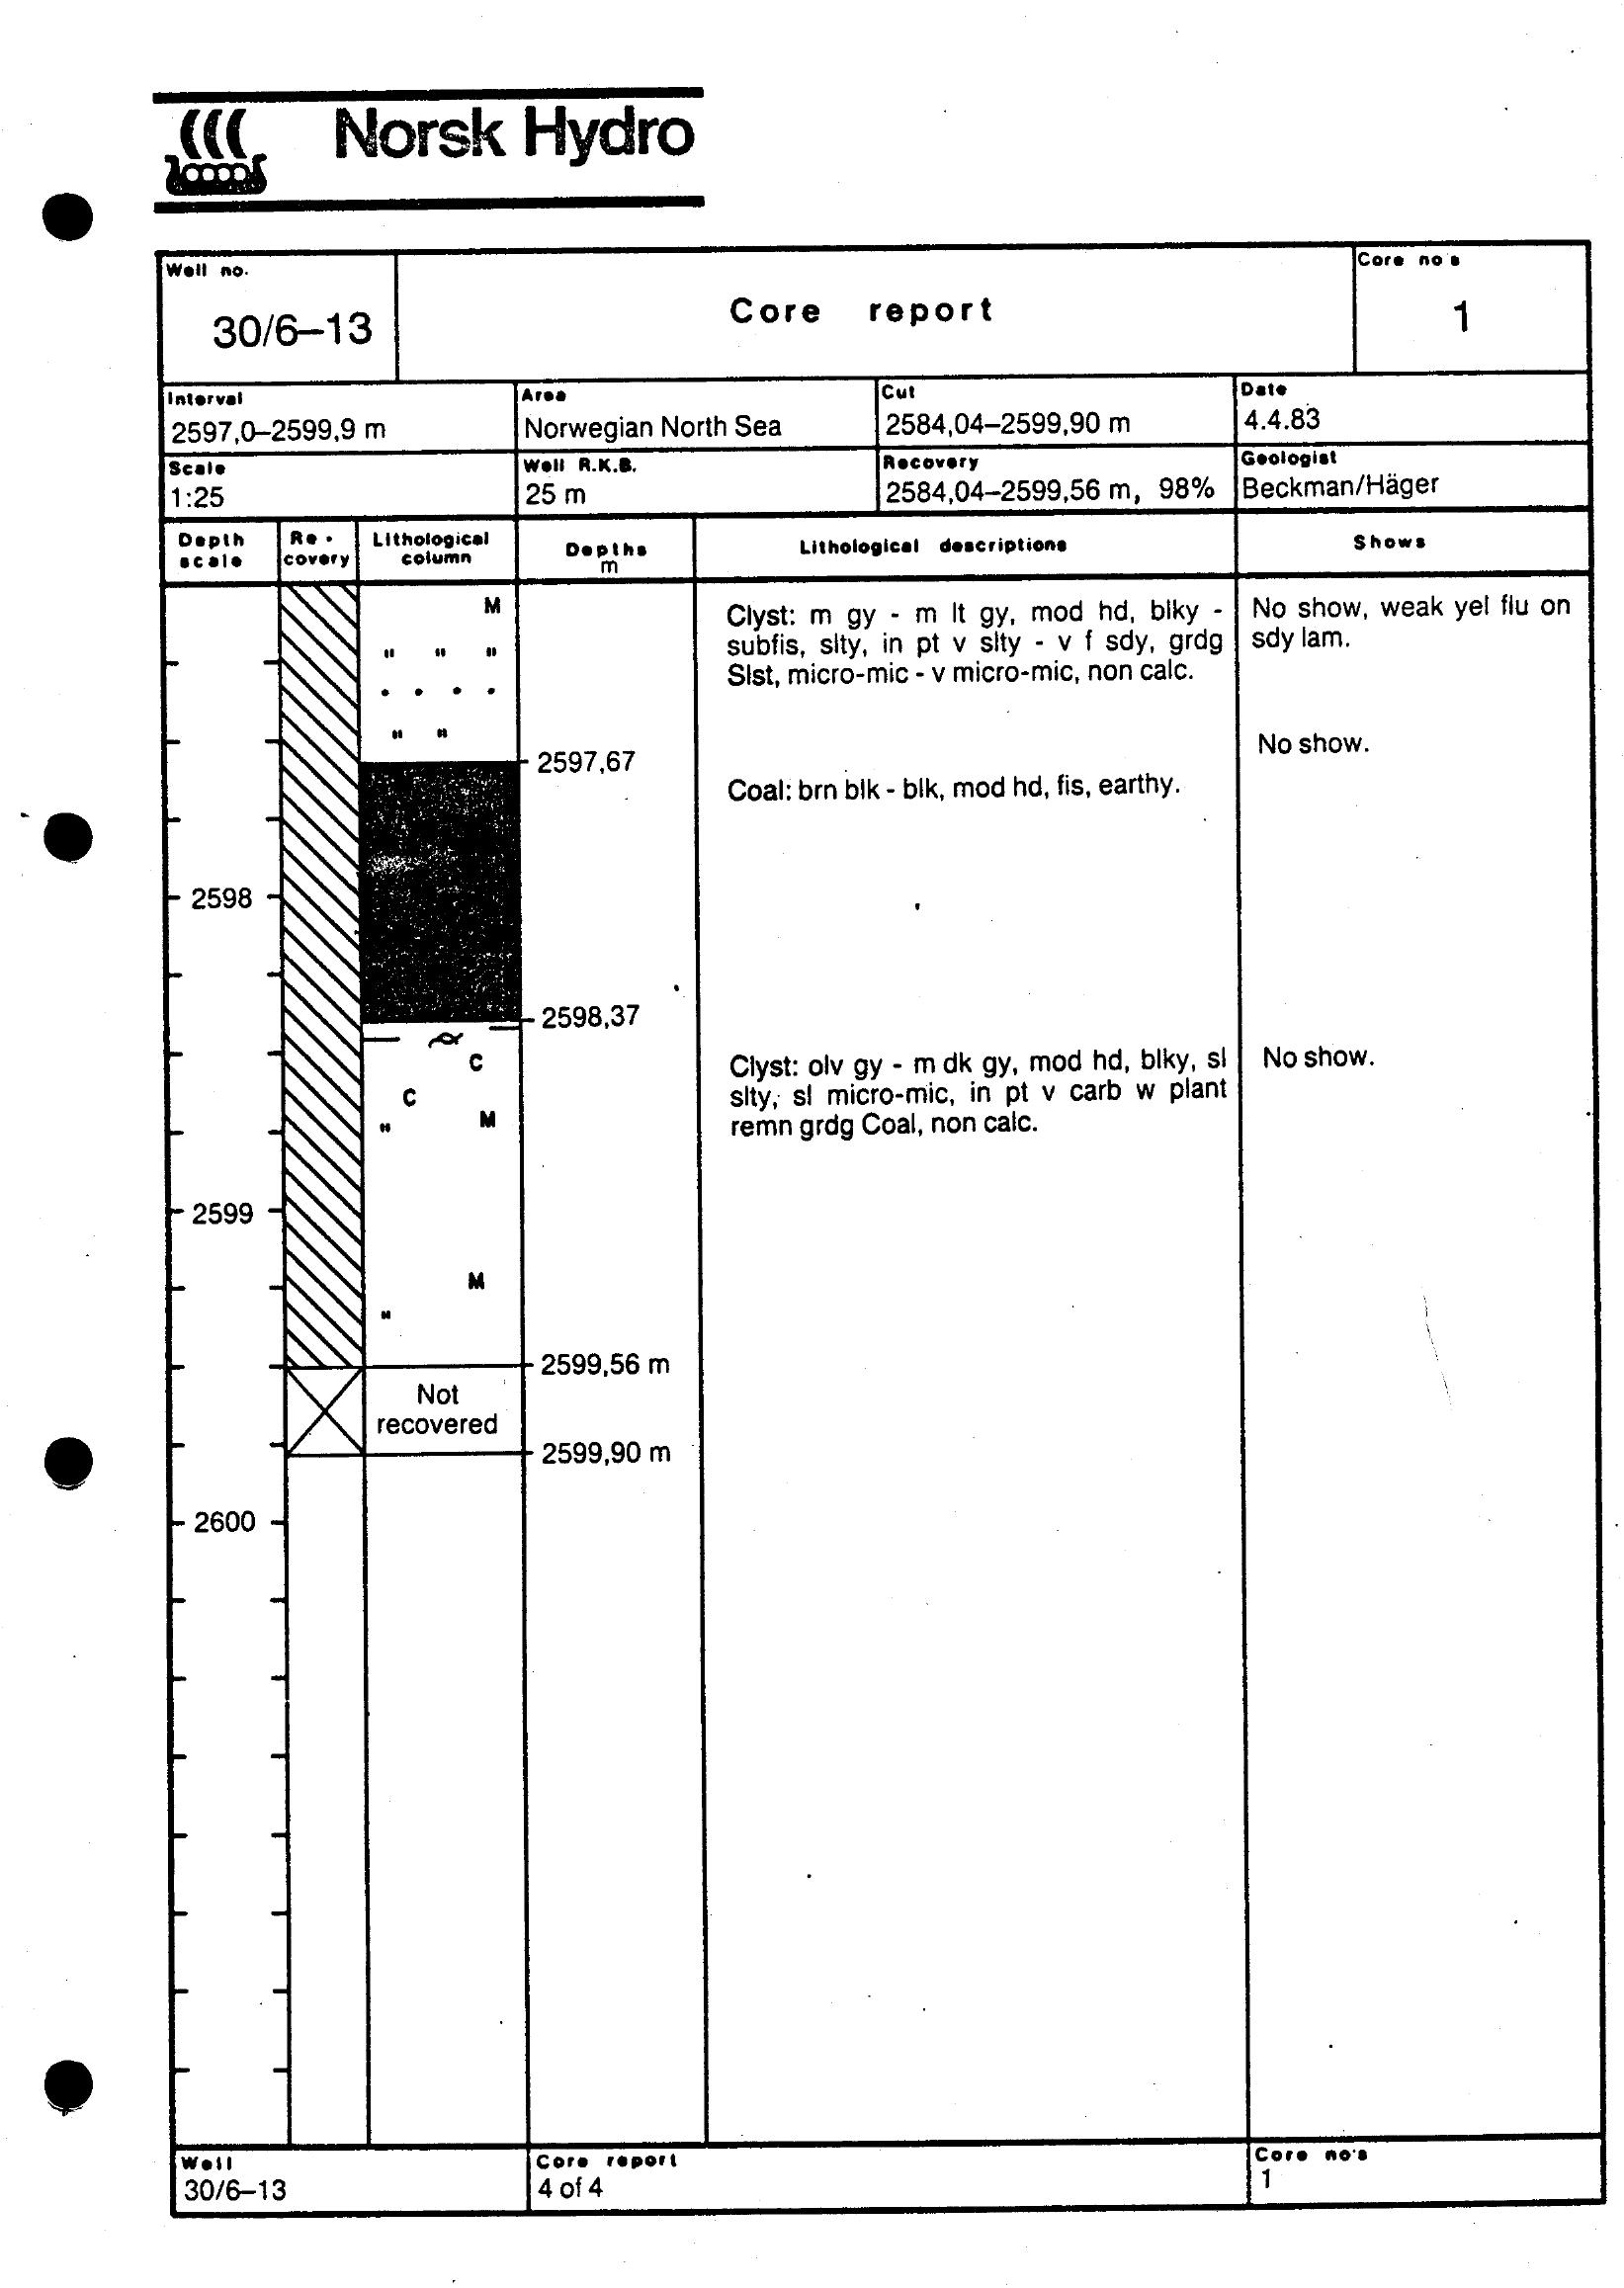graph: (139, 243, 1606, 2251)
undefined: (137, 76, 726, 225)
